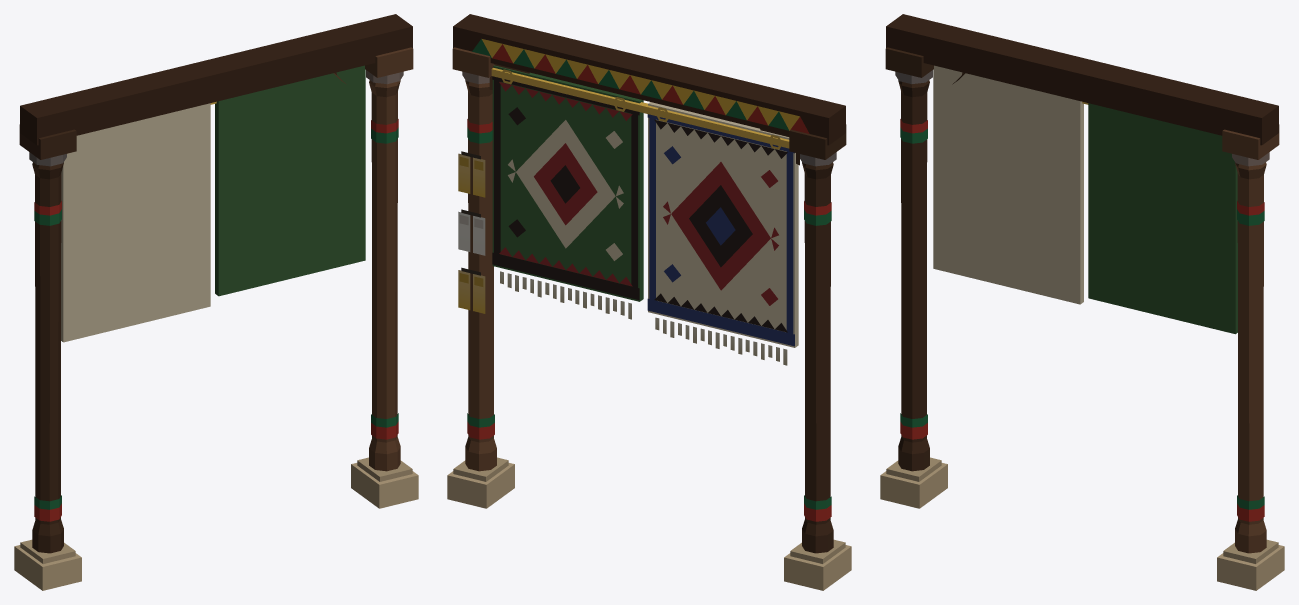
Rendered from souk_gate_rugs.glb.
3 views of the same model, side by side, from view 1: azimuth 30°, elevation 25°; view 2: azimuth 150°, elevation 25°; view 3: azimuth 330°, elevation 25° (orthographic).
Visible parts, largest first — view 1: souk_gate_rugs; view 2: souk_gate_rugs; view 3: souk_gate_rugs.
Part boxes in pixels (x1,y1,x2,y2): souk_gate_rugs: [14, 14, 418, 590]; souk_gate_rugs: [447, 14, 851, 590]; souk_gate_rugs: [880, 14, 1284, 590].
Size of the model in its own units: 2.3 by 2.74 by 0.3.
